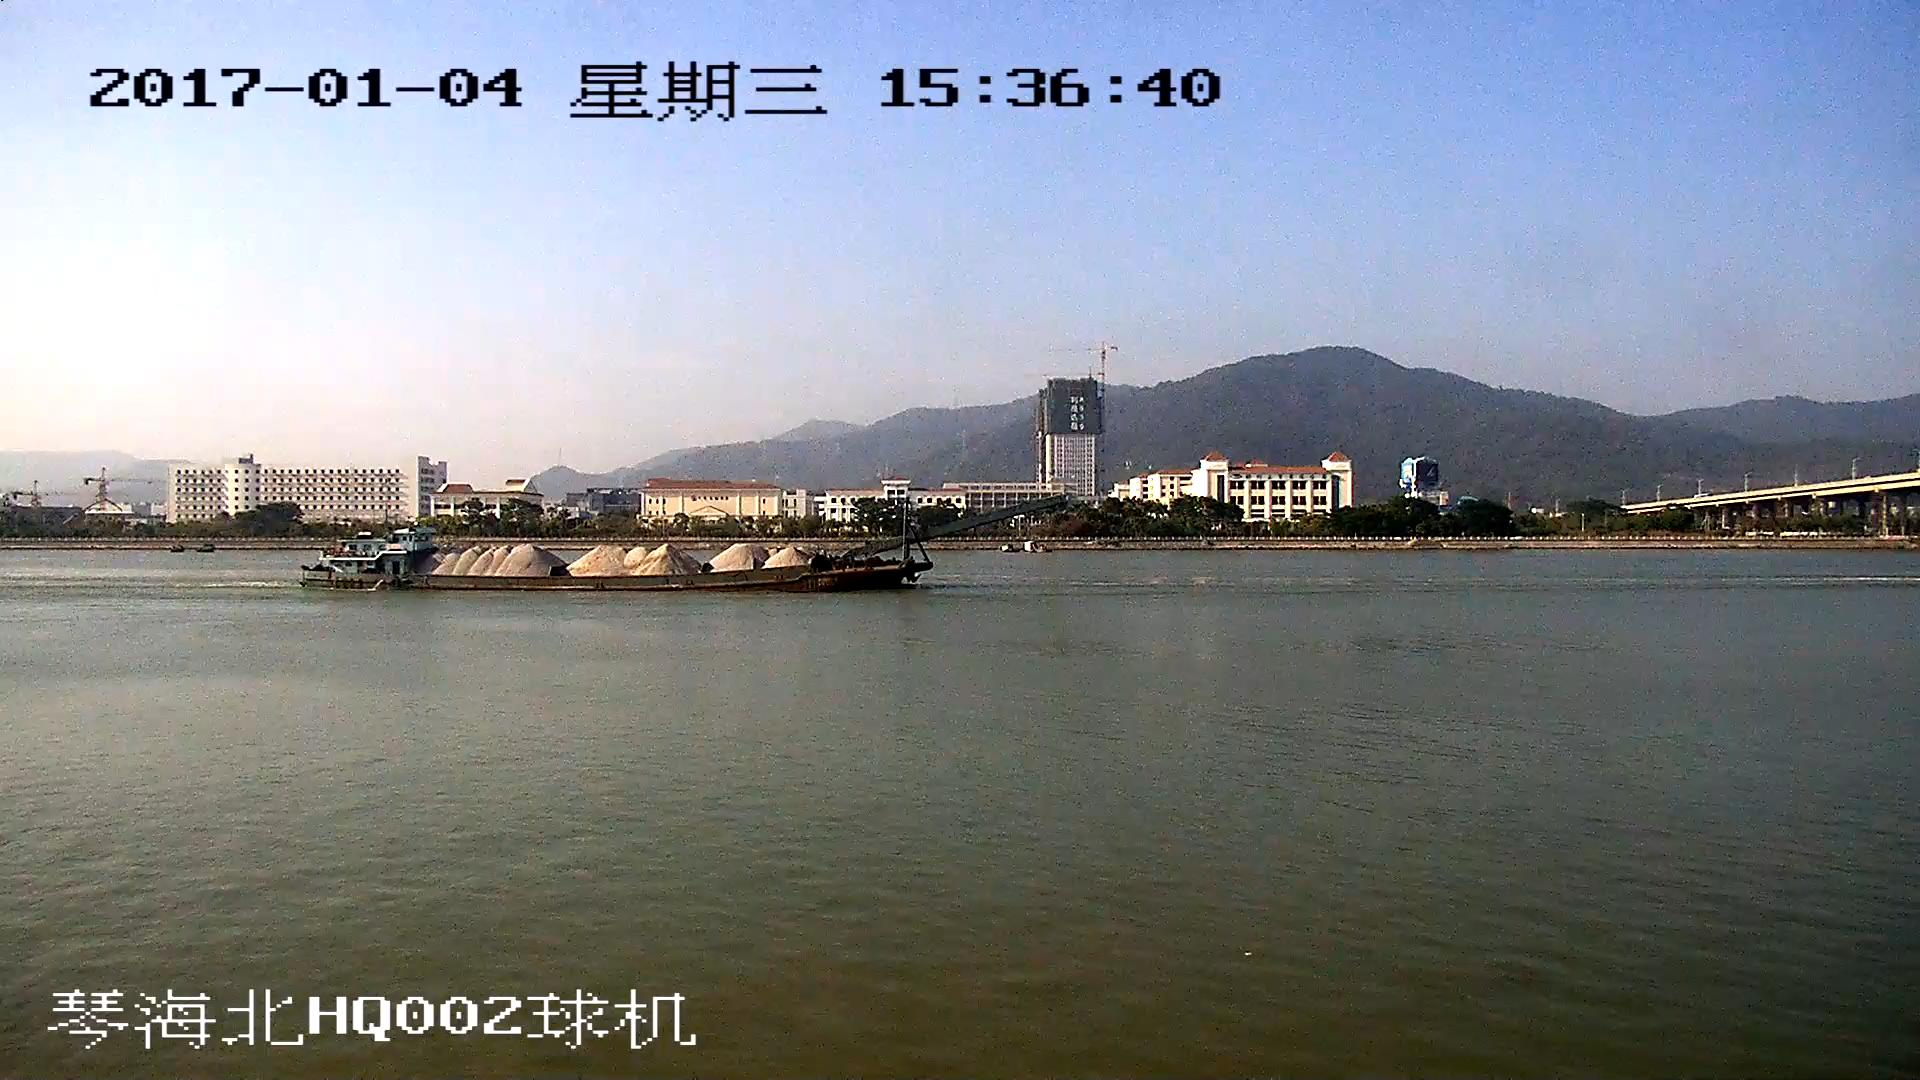ore carrier: (300, 498, 1063, 589)
